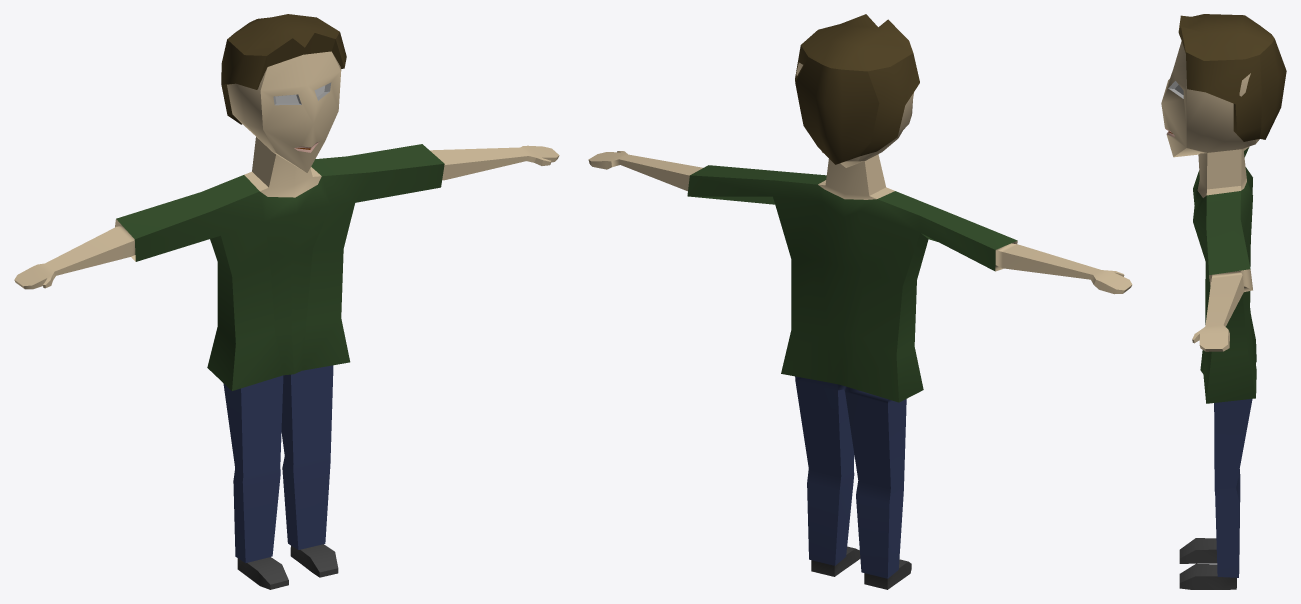
Rendered from Jared_unRigged.fbx.
The picture shows the model from 3 angles, left to right: view 1: azimuth 30°, elevation 25°; view 2: azimuth 150°, elevation 25°; view 3: azimuth 270°, elevation 25°; orthographic projection.
Visible parts, largest first — view 1: polySurface1, polySurface4; view 2: polySurface1, polySurface4; view 3: polySurface1, polySurface4.
Part boxes in pixels (<box>): polySurface1: <box>14,51,559,589</box>; polySurface4: <box>221,14,346,124</box>; polySurface1: <box>588,62,1132,589</box>; polySurface4: <box>795,14,919,164</box>; polySurface1: <box>1161,41,1259,589</box>; polySurface4: <box>1178,14,1286,141</box>.
Bounding box in the file's own units: 19.99 × 19.39 × 4.
